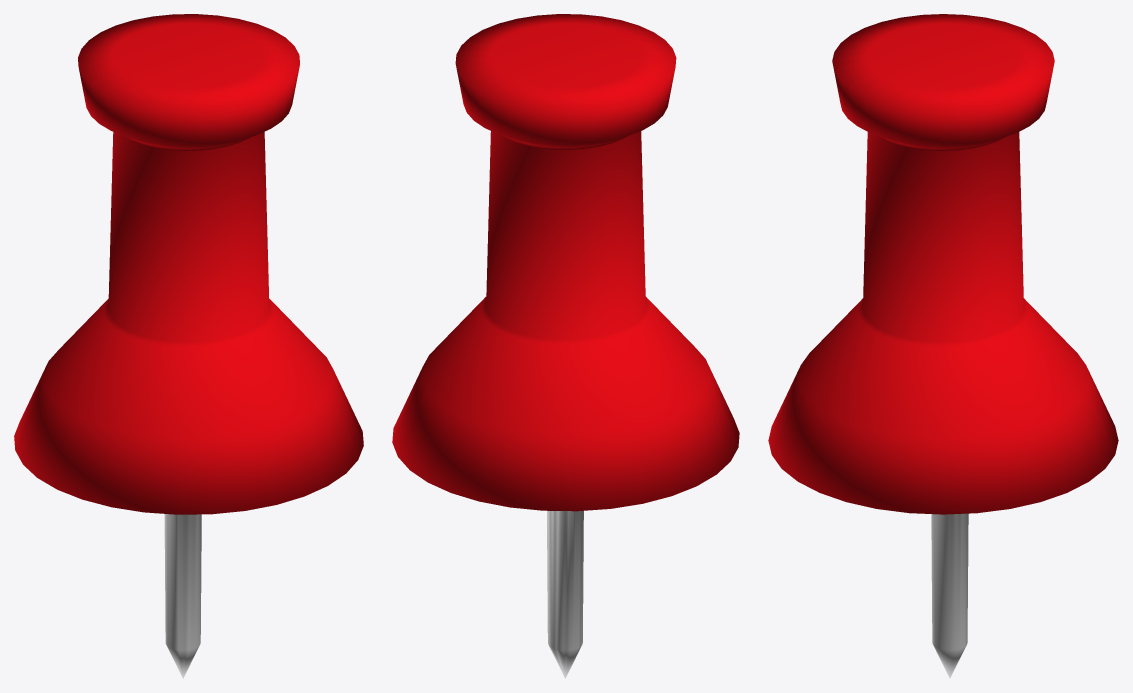
Rendered from thumbTack.fbx.
3 views of the same model, side by side, from view 1: azimuth 30°, elevation 25°; view 2: azimuth 150°, elevation 25°; view 3: azimuth 270°, elevation 25° (orthographic).
Visible parts, largest first — view 1: thumbtack; view 2: thumbtack; view 3: thumbtack.
Boxes of the visible parts, x1,y1,x2,y2 form: thumbtack: (14,14,363,678); thumbtack: (392,14,739,678); thumbtack: (768,14,1118,678).
Bounding box in the file's own units: 34.15 × 67.15 × 34.15.
